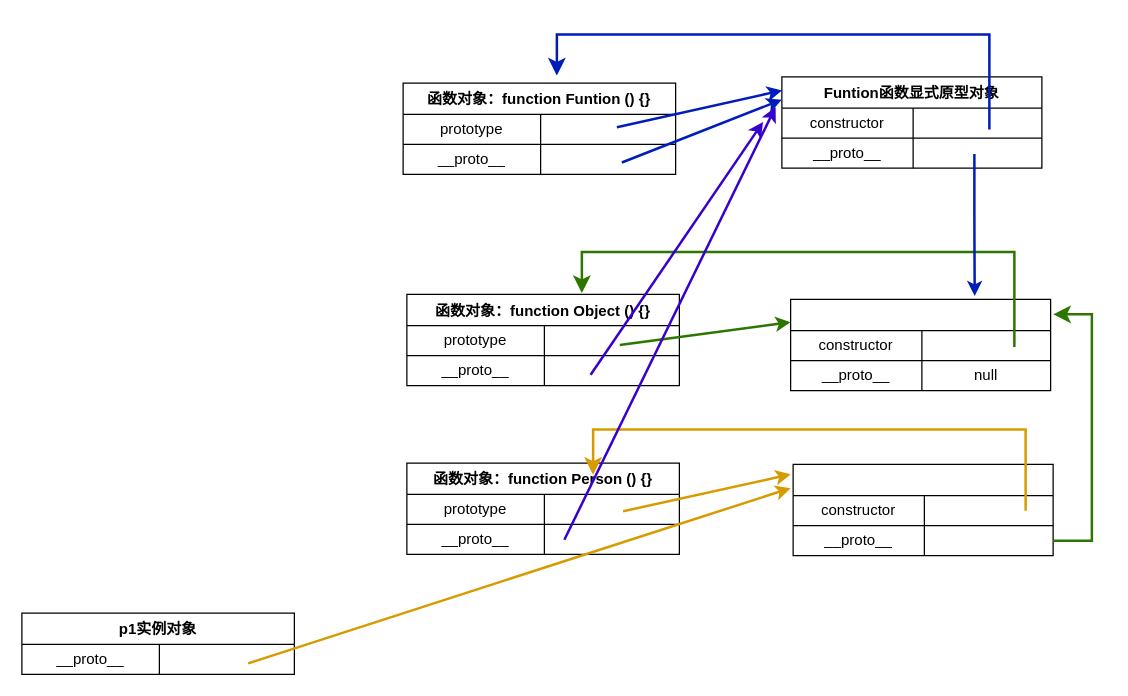
Image size: 1128x696. Some labels were removed from this diagram. Here are the shapes that lost their labels. From the top down, the box of each, then its label:
(789, 298, 1051, 391): Object函数显式原型对象
(792, 463, 1053, 556): Person函数显式原型对象
